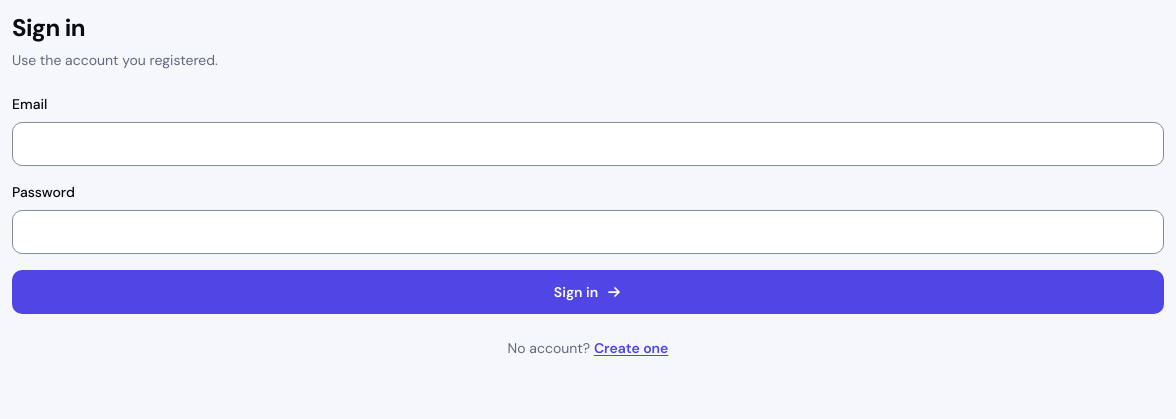
the sign-in form › refuses a malformed email without asking the server
Type "not-an-email" into the field labelled "Email".
click(588, 144); type("not-an-email")  # box [12,122,1164,166]
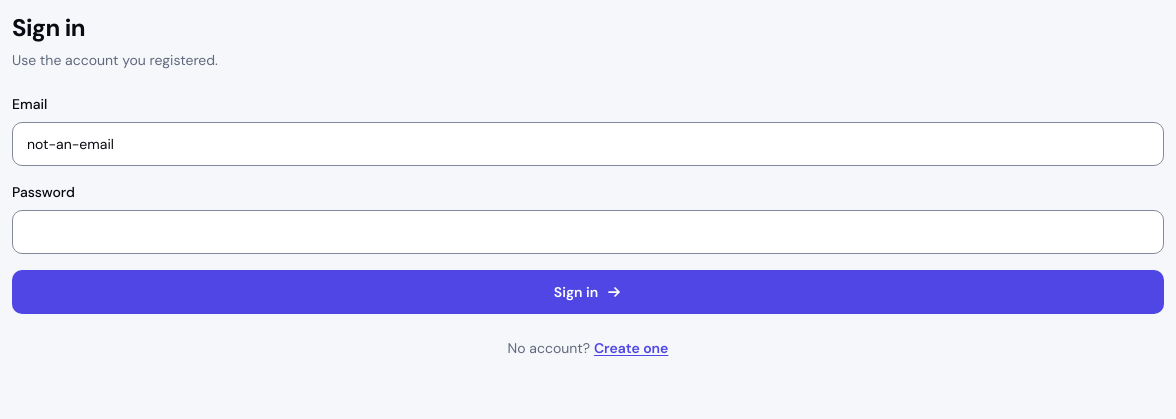
Type "correct-horse-battery" into the password field labelled "Password".
click(588, 232); type("correct-horse-battery")  # box [12,210,1164,254]
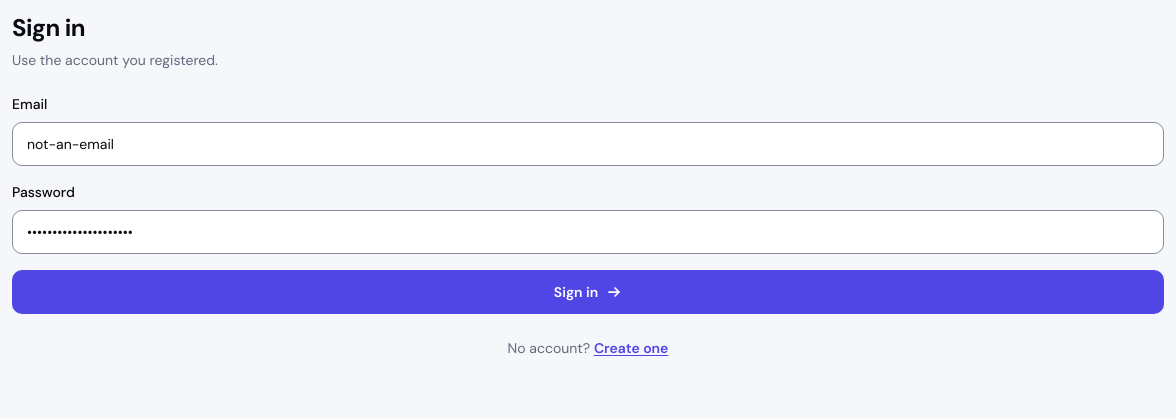
Click the button "Sign in".
click(588, 292)  # box [12,270,1164,314]
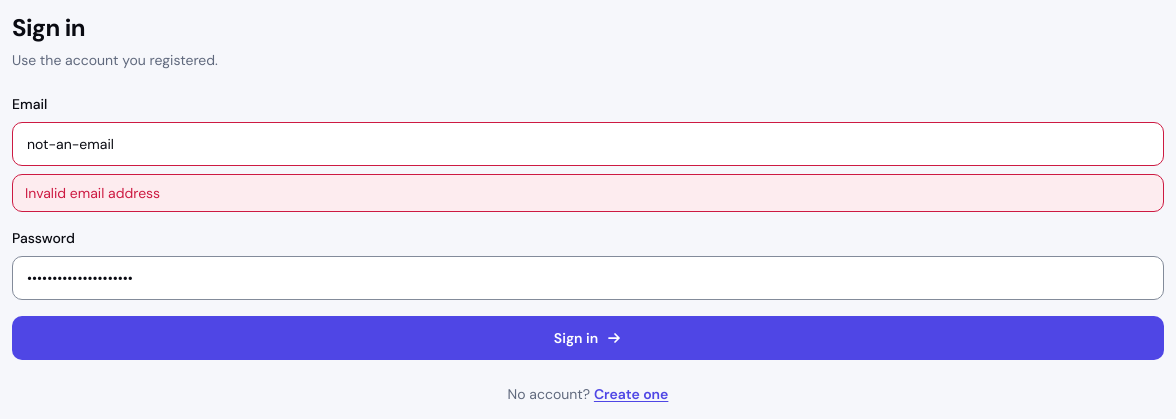
Check: the message "Invalid email address" is shown, box [12,174,1164,212]
